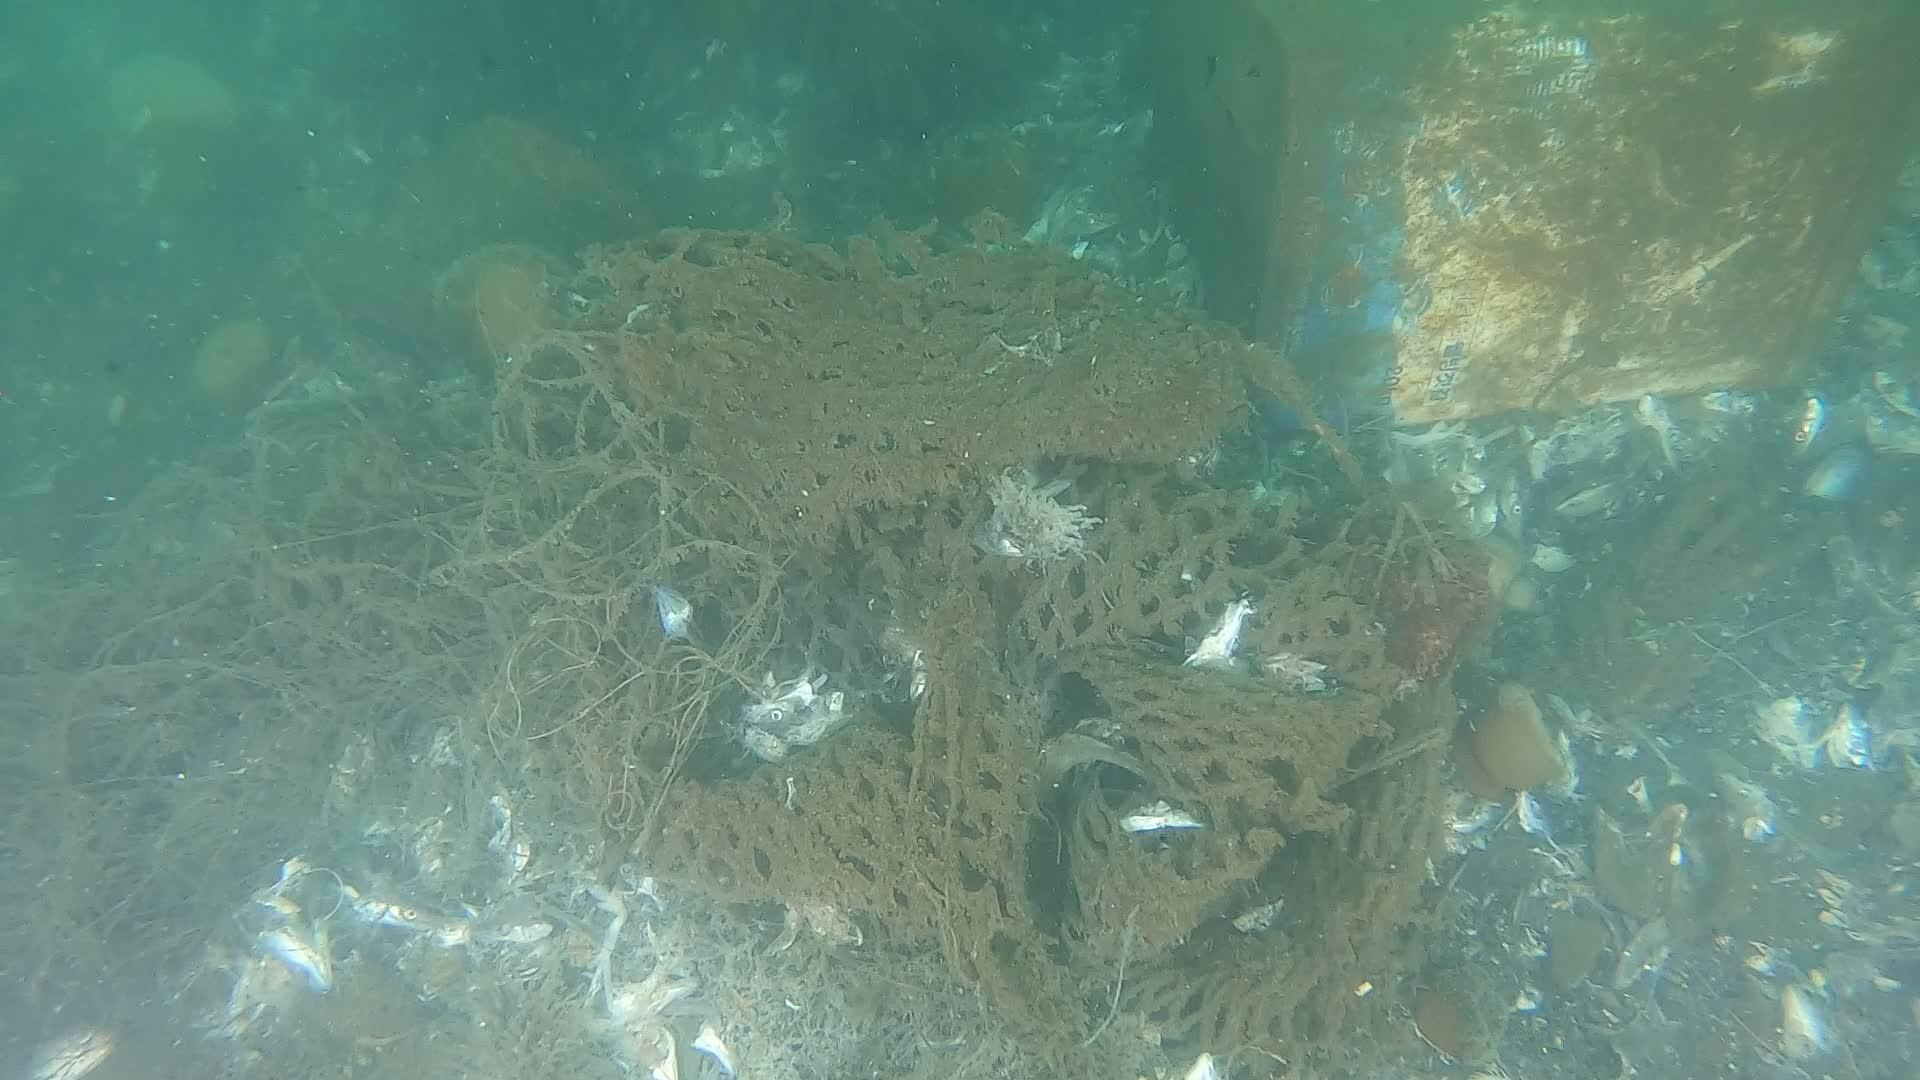fish net: (611, 223, 1460, 1062)
